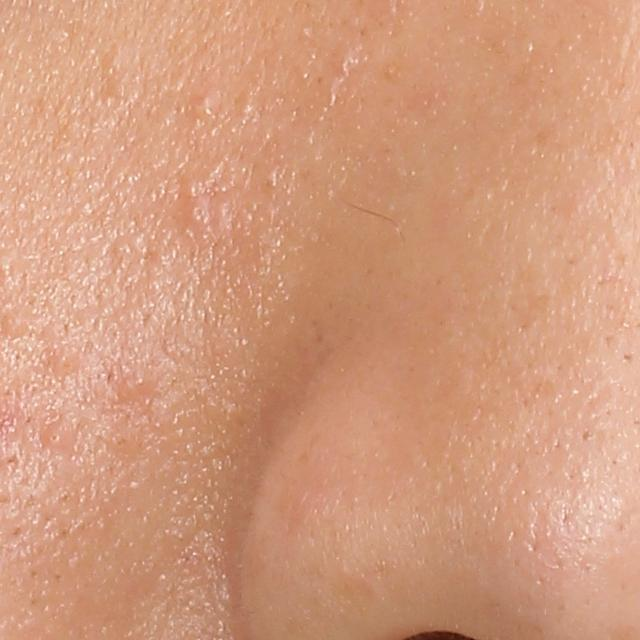comedo: (112, 362, 148, 396), (178, 202, 207, 233), (187, 95, 217, 122)
